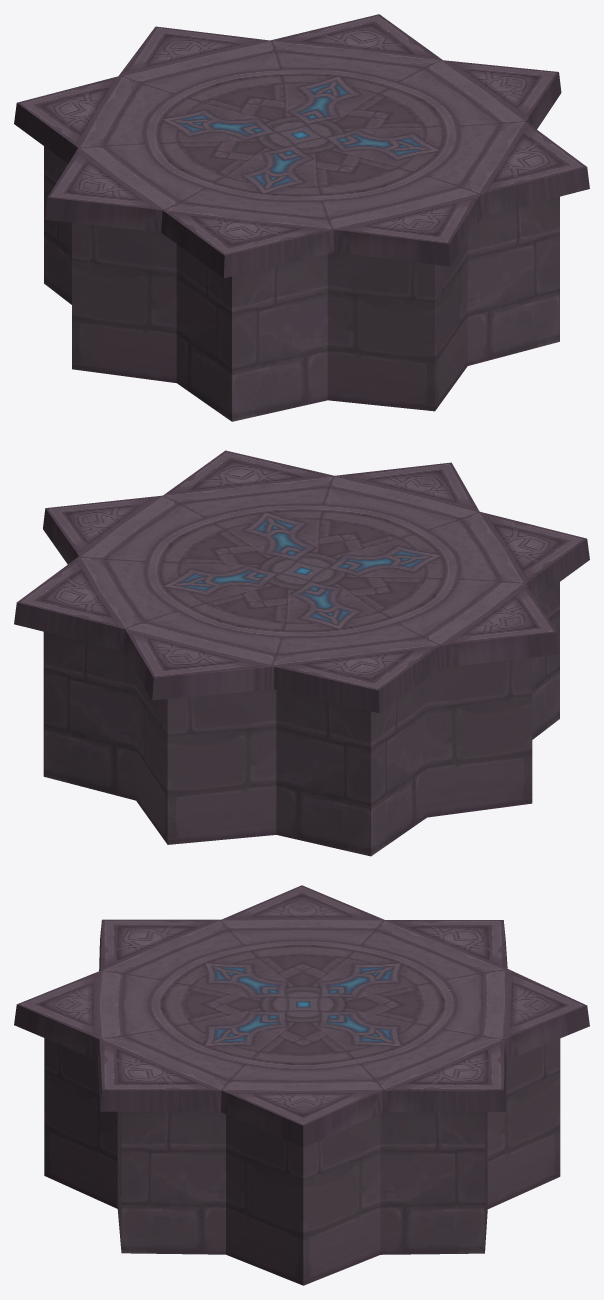
Rendered from SD_xs_jizuo04.FBX.
3 renders of one model, top to bottom at view 1: azimuth 30°, elevation 25°; view 2: azimuth 150°, elevation 25°; view 3: azimuth 270°, elevation 25°, orthographic. The views are drawn at different scales.
Visible parts, largest first — view 1: SD_xs_jizuo04; view 2: SD_xs_jizuo04; view 3: SD_xs_jizuo04.
Boxes of the visible parts, x1,y1,x2,y2 form: SD_xs_jizuo04: (14,14,589,421); SD_xs_jizuo04: (14,450,589,856); SD_xs_jizuo04: (14,885,589,1285).
Size of the model in its own units: 504 by 166 by 504.
1 material, 1 textured.
